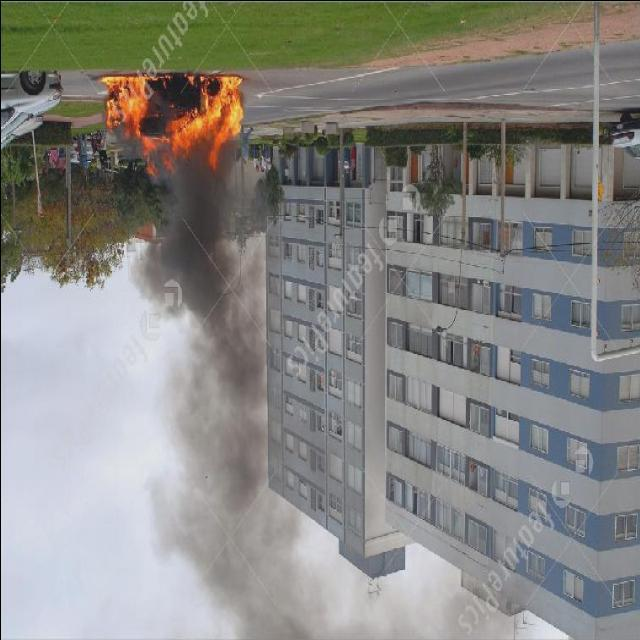Fire: (91, 64, 258, 178)
